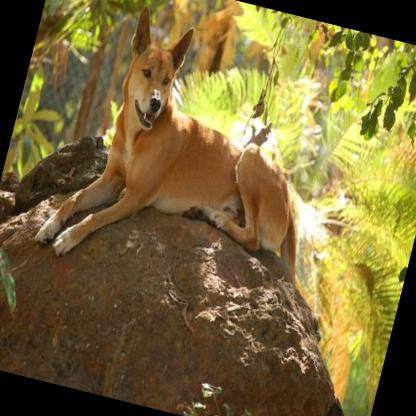dingo: (32, 0, 354, 313)
